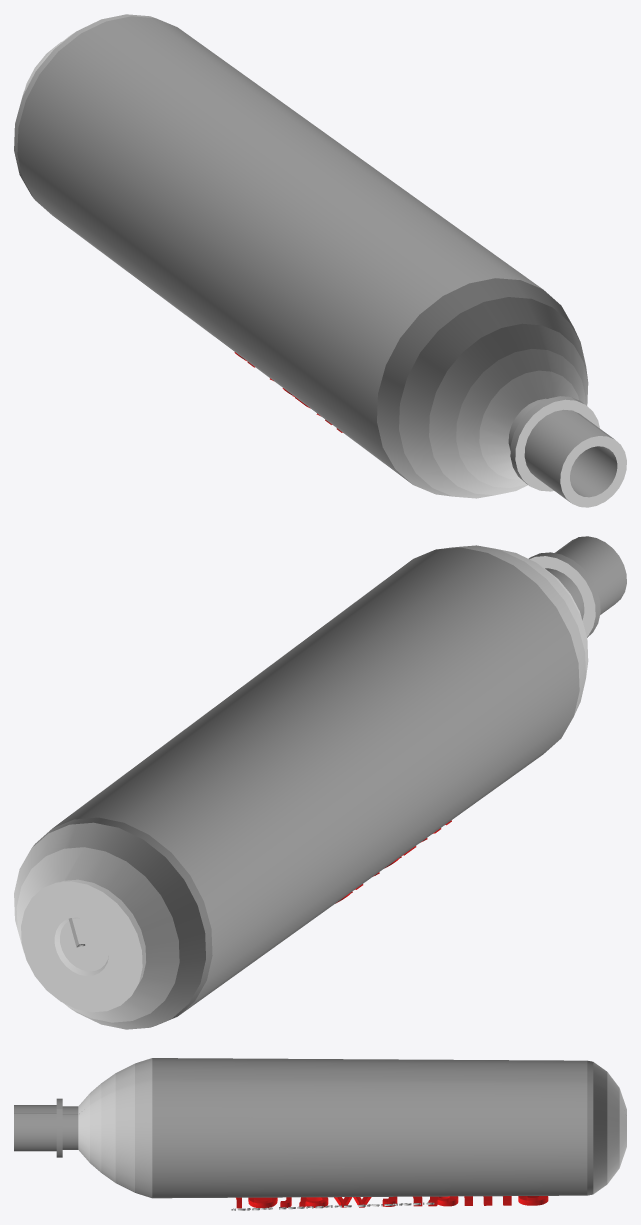
File: model_align.obj
3 renders of one model, top to bottom at view 1: azimuth 30°, elevation 25°; view 2: azimuth 150°, elevation 25°; view 3: azimuth 270°, elevation 25°, orthographic. The views are drawn at different scales.
Visible parts, largest first — view 1: mesh100_mesh100-geometry; view 2: mesh100_mesh100-geometry; view 3: mesh100_mesh100-geometry, mesh30_mesh30-geometry, mesh3_mesh3-geometry, mesh28_mesh28-geometry, mesh2_mesh2-geometry, mesh1_mesh1-geometry, mesh27_mesh27-geometry.
Boxes of the visible parts, x1=… form: mesh100_mesh100-geometry: x1=14, y1=14, x2=626, y2=507; mesh100_mesh100-geometry: x1=14, y1=536, x2=626, y2=1029; mesh100_mesh100-geometry: x1=14, y1=1058, x2=626, y2=1198; mesh30_mesh30-geometry: x1=248, y1=1197, x2=277, y2=1208; mesh3_mesh3-geometry: x1=428, y1=1196, x2=458, y2=1206; mesh28_mesh28-geometry: x1=299, y1=1197, x2=328, y2=1207; mesh2_mesh2-geometry: x1=464, y1=1196, x2=511, y2=1205; mesh1_mesh1-geometry: x1=518, y1=1196, x2=548, y2=1205; mesh27_mesh27-geometry: x1=334, y1=1197, x2=371, y2=1207.
Size of the model in its own units: 0.0566 by 0.059 by 0.2477.
